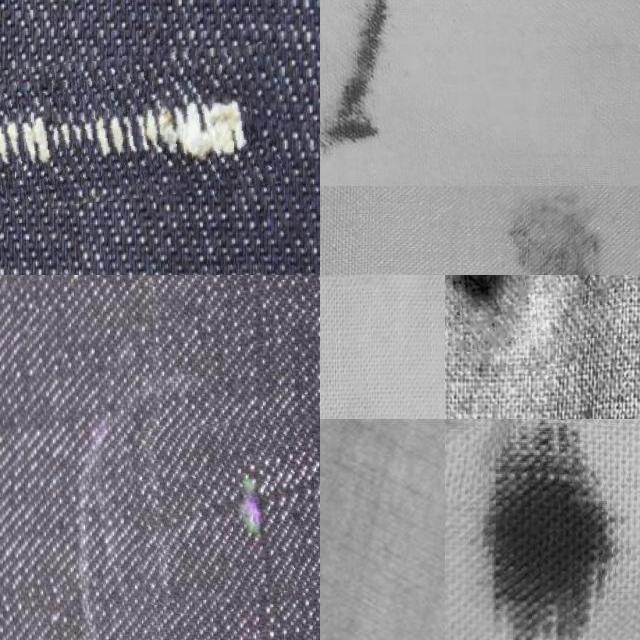Thread_other: (445, 419, 640, 640), (320, 0, 478, 186), (496, 186, 622, 275), (441, 275, 560, 350)
stains: (0, 53, 281, 217), (130, 414, 320, 600)
